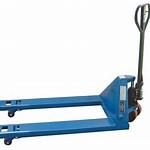Pallet Jack: (1, 2, 150, 146)
